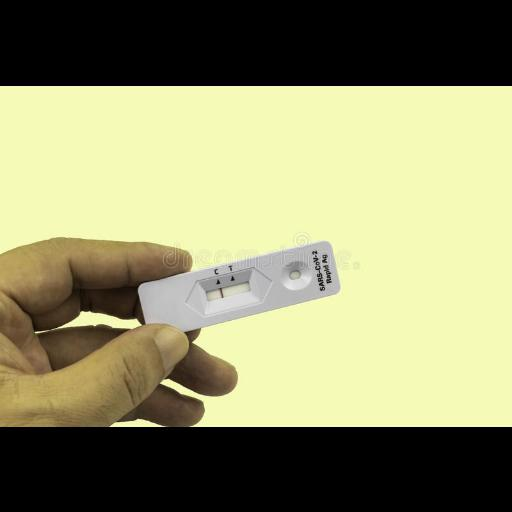Neg: (138, 239, 342, 338)
